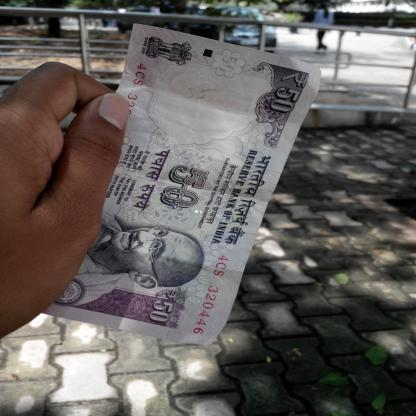Old50Front: (42, 23, 322, 346)
